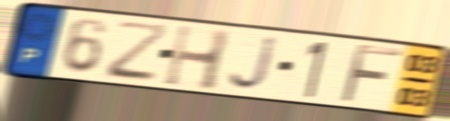1: (304, 40, 329, 100)
6: (60, 16, 108, 76)
F: (337, 41, 405, 105)
H: (160, 22, 235, 93)
J: (226, 35, 281, 94)
Z: (105, 20, 172, 84)
